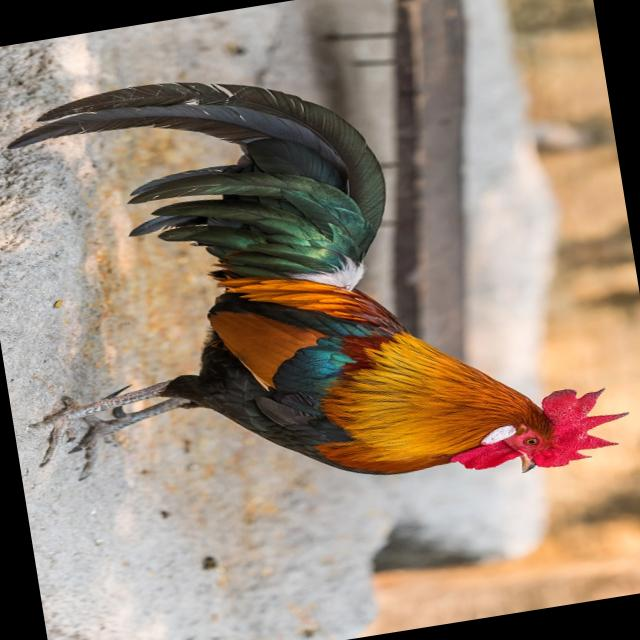Healthy: (0, 0, 640, 598), (0, 0, 491, 357), (440, 347, 640, 500)
